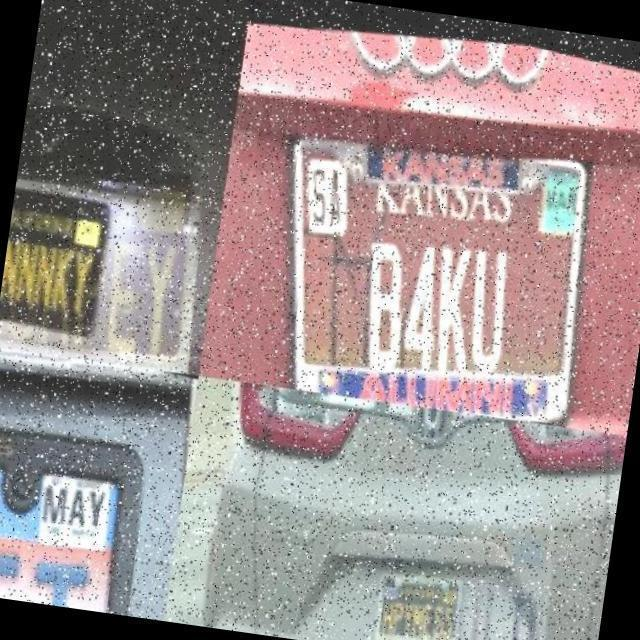license_plate: (298, 140, 587, 414), (0, 382, 194, 622), (0, 163, 132, 344), (372, 552, 482, 640)
